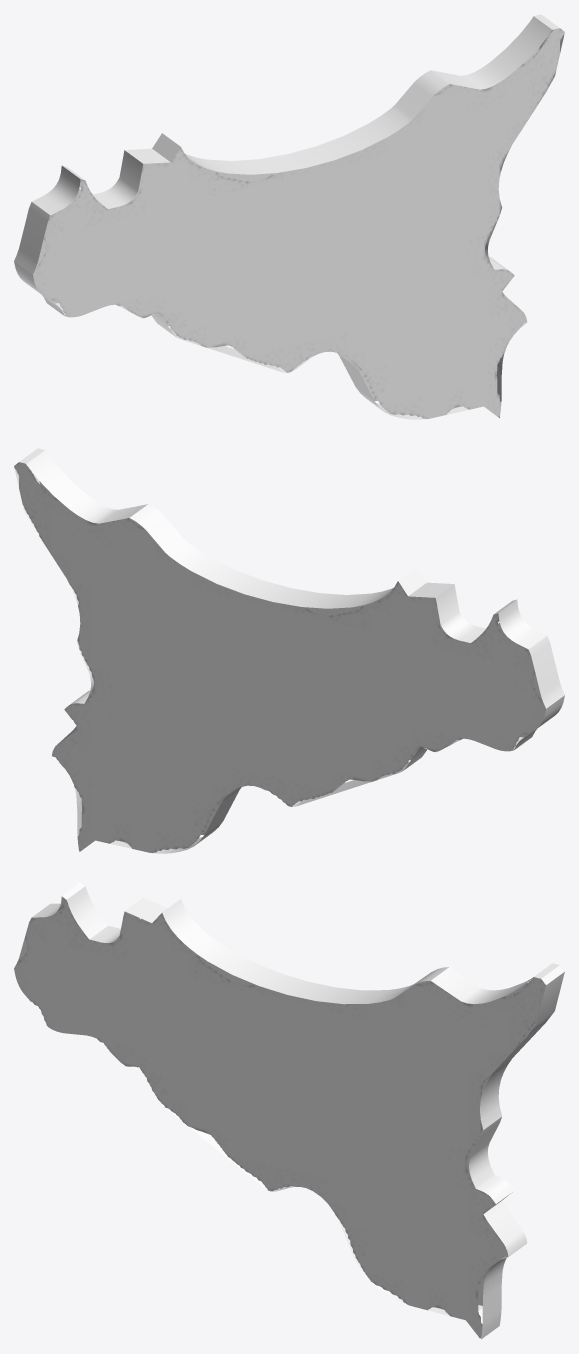
The model's file is Sicilia.obj.
3 views of the same model, one above another, from view 1: azimuth 30°, elevation 25°; view 2: azimuth 150°, elevation 25°; view 3: azimuth 330°, elevation 25° (orthographic).
Bounding box in the file's own units: 212 × 143 × 13.
3 materials, 3 textured.
